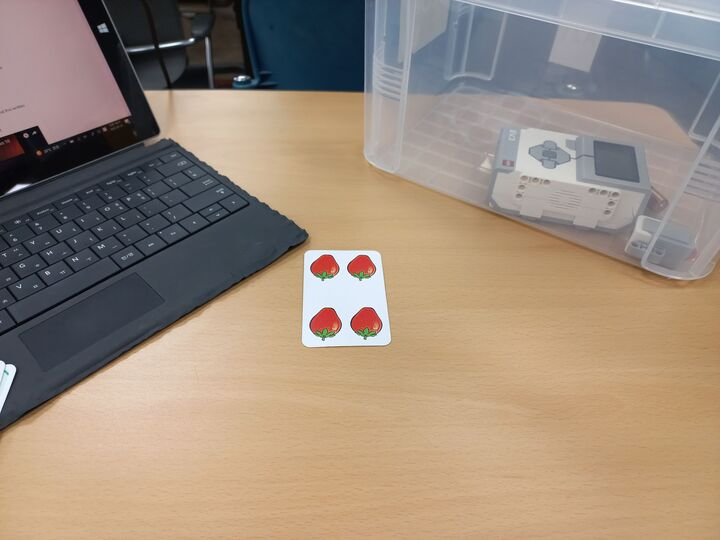strawberry4: (302, 250, 392, 347)
